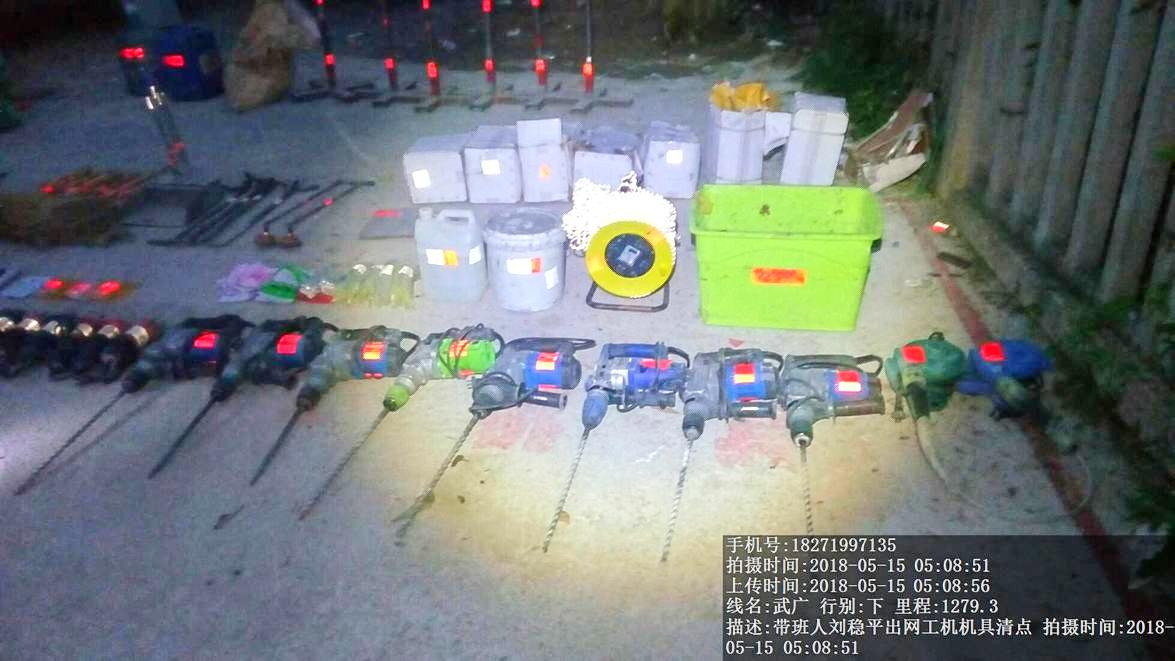DZ: (775, 344, 887, 455), (676, 337, 786, 450), (572, 338, 687, 445), (293, 328, 409, 429), (372, 332, 487, 419), (474, 335, 580, 422)
GFJ: (888, 340, 970, 496)
T: (689, 179, 882, 333)
